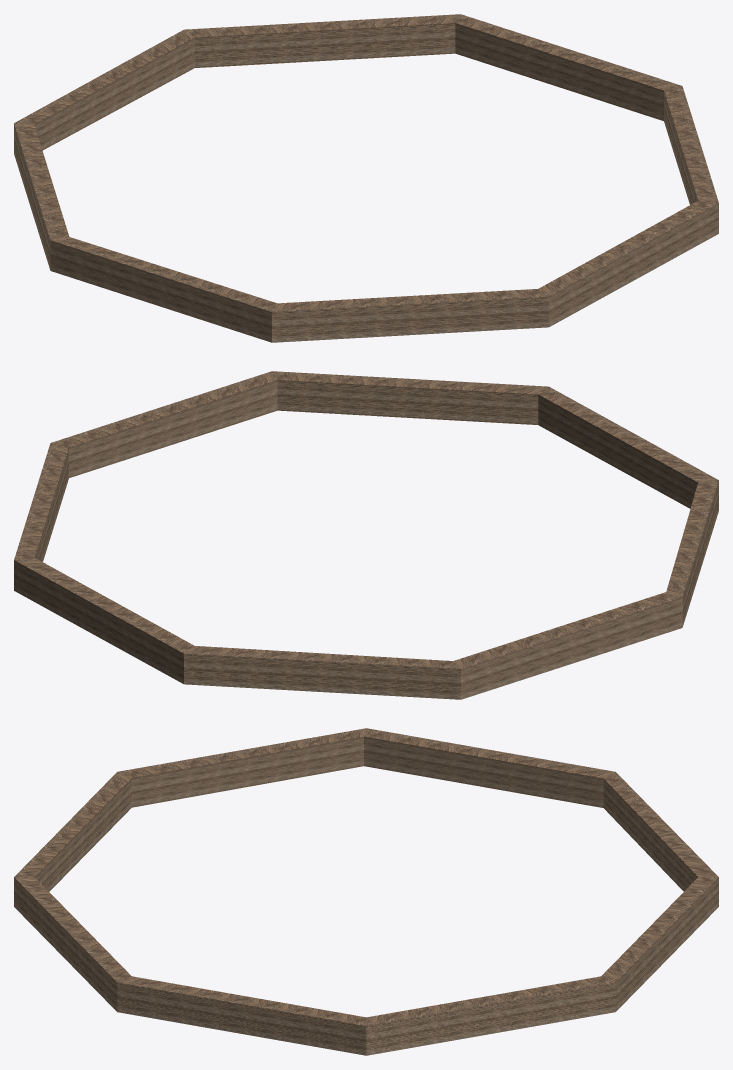
The model's file is letrero.obj.
The picture shows the model from 3 angles, top to bottom: view 1: azimuth 30°, elevation 25°; view 2: azimuth 150°, elevation 25°; view 3: azimuth 270°, elevation 25°; orthographic projection. The views are drawn at different scales.
Parts seen in each view (by area): view 1: letrero1; view 2: letrero1; view 3: letrero1.
Boxes of the visible parts, x1,y1,x2,y2 form: letrero1: (14,14,718,342); letrero1: (14,371,718,699); letrero1: (14,728,718,1055).
Bounding box in the file's own units: 23.99 × 1.11 × 23.99.
Materials: 1 (1 with a texture image).
